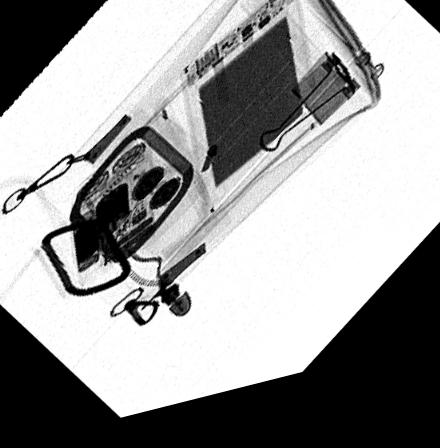Powerbank: (179, 0, 316, 231)
